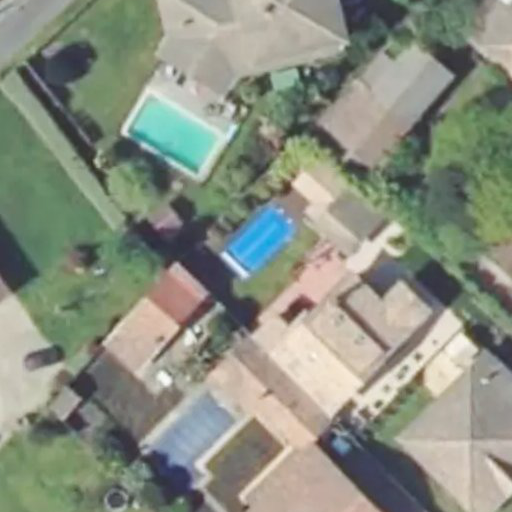pool: (126, 84, 218, 180), (230, 198, 293, 272)
